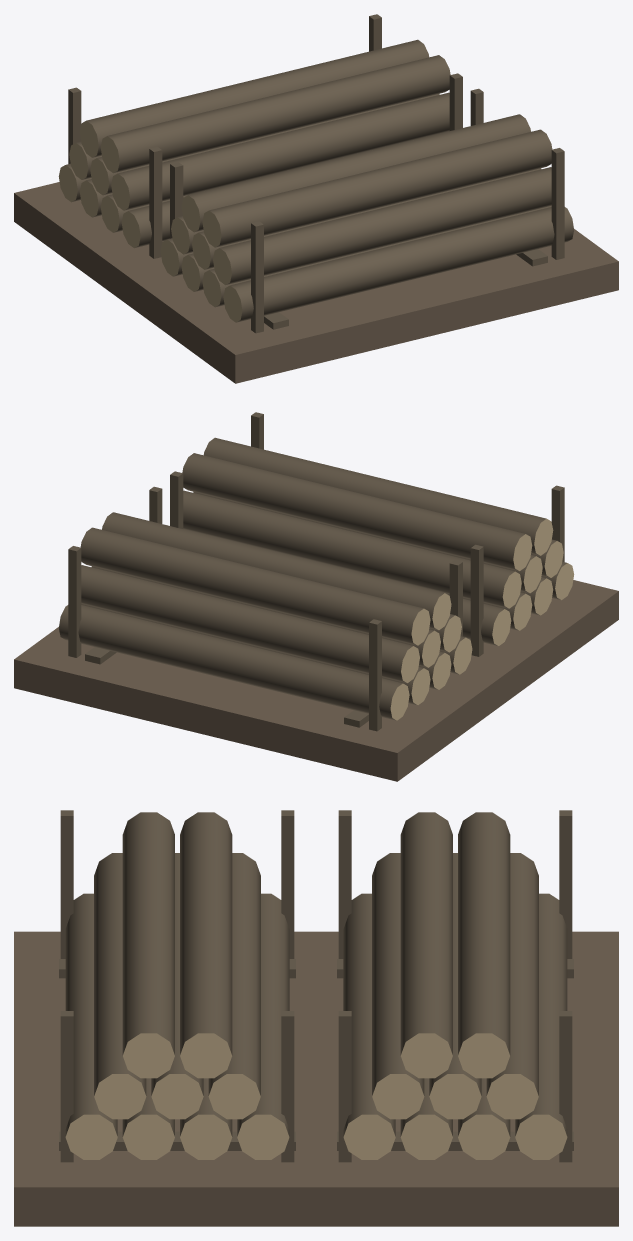
The model's file is mashup-logs-mid-prebuilt.fbx.
3 renders of one model, top to bottom at view 1: azimuth 30°, elevation 25°; view 2: azimuth 150°, elevation 25°; view 3: azimuth 270°, elevation 25°, orthographic. The views are drawn at different scales.
Visible parts, largest first — view 1: a1016.Logs; view 2: a1016.Logs; view 3: a1016.Logs.
Boxes of the visible parts, bbox=[...] form: a1016.Logs: bbox=[14, 14, 618, 383]; a1016.Logs: bbox=[14, 412, 618, 781]; a1016.Logs: bbox=[14, 810, 618, 1226].
Bounding box in the file's own units: 7.4 × 2.5 × 7.4.
